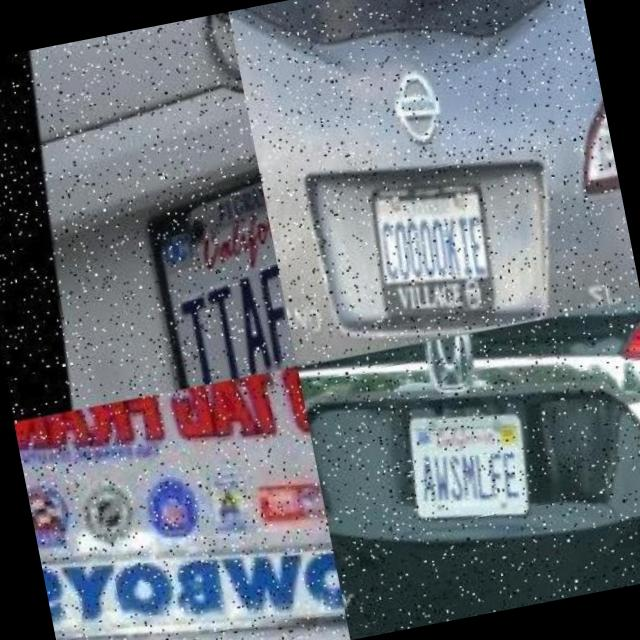LicensePlate: (13, 367, 320, 535), (144, 176, 296, 390), (389, 392, 542, 544), (361, 181, 488, 318)
